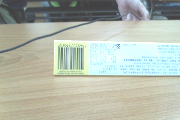Chocolate: (52, 37, 180, 81)
